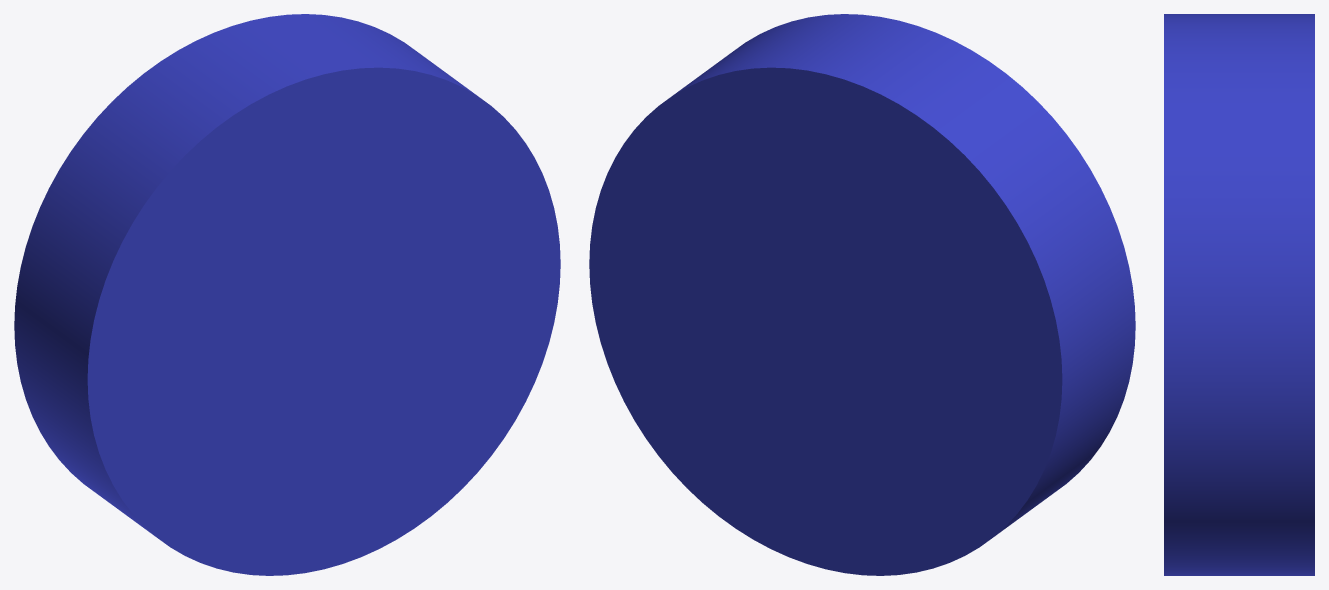
The picture shows the model from 3 angles, left to right: view 1: azimuth 30°, elevation 25°; view 2: azimuth 150°, elevation 25°; view 3: azimuth 270°, elevation 25°; orthographic projection. The views are drawn at different scales.
Visible parts, largest first — view 1: root; view 2: root; view 3: root.
Part boxes in pixels (x1,y1,x2,y2): root: (14,14,560,575); root: (589,14,1135,575); root: (1164,14,1314,575).
Bounding box in the file's own units: 0.3097 × 0.3097 × 0.0831.
